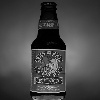beer: (31, 1, 66, 100)
